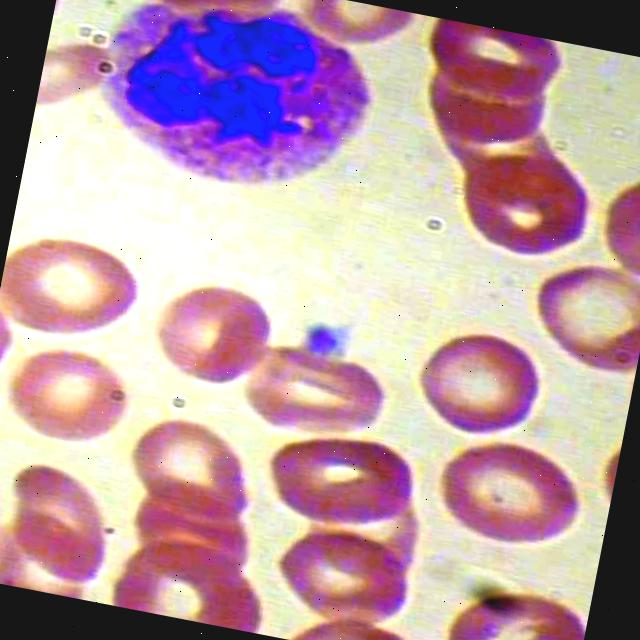Platelets: (295, 317, 359, 363)
RBC: (420, 418, 604, 566), (261, 411, 426, 544), (399, 310, 556, 446), (446, 138, 610, 268), (135, 262, 284, 402), (0, 223, 153, 352), (120, 406, 270, 535), (267, 519, 421, 640), (0, 329, 142, 460), (238, 333, 396, 445), (0, 456, 125, 594), (521, 239, 640, 381), (410, 15, 572, 119), (437, 571, 592, 640)
WBC: (67, 0, 393, 224)
